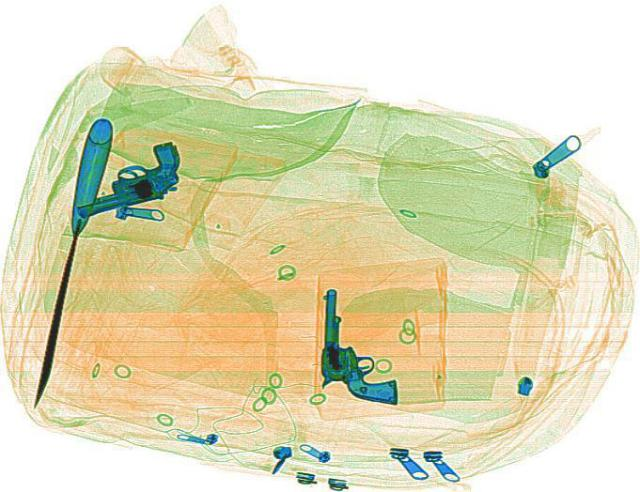Gun: (52, 138, 200, 219), (316, 287, 402, 402)
Knife: (18, 115, 116, 407)
